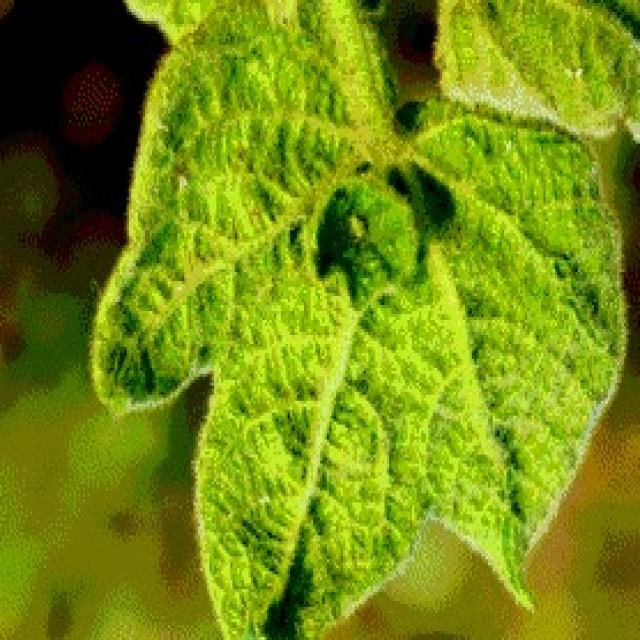Leaf Curl Virus: (178, 67, 553, 476)
